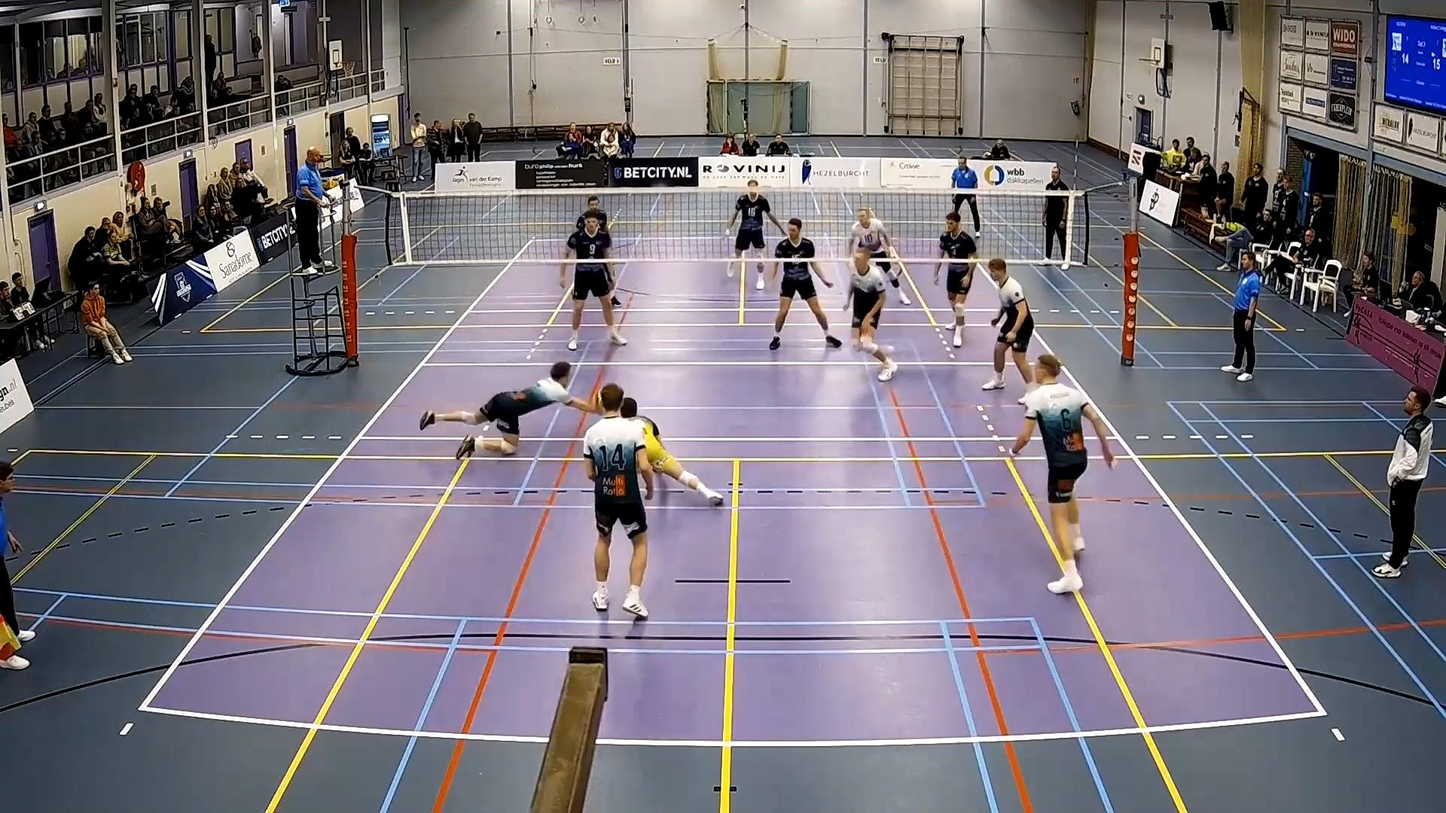Dig: (411, 362, 634, 459)
Player: (1011, 354, 1115, 593), (583, 383, 652, 617), (620, 397, 724, 506), (769, 218, 840, 349), (567, 216, 627, 350), (982, 259, 1033, 395), (845, 248, 897, 381), (933, 212, 976, 347), (852, 208, 911, 305), (727, 180, 786, 272), (575, 195, 609, 233), (575, 195, 607, 231)
